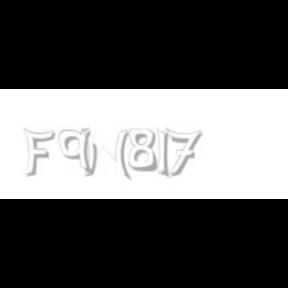7: (165, 128, 202, 178)
8: (128, 128, 158, 172)
F: (23, 128, 55, 178)
N: (80, 128, 130, 180)
l: (157, 128, 173, 180)
q: (58, 128, 94, 176)
